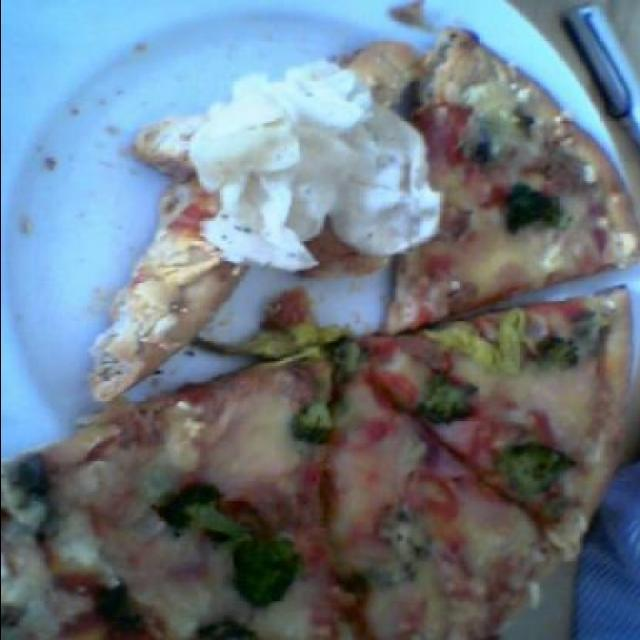Pizza: (38, 13, 640, 636)
